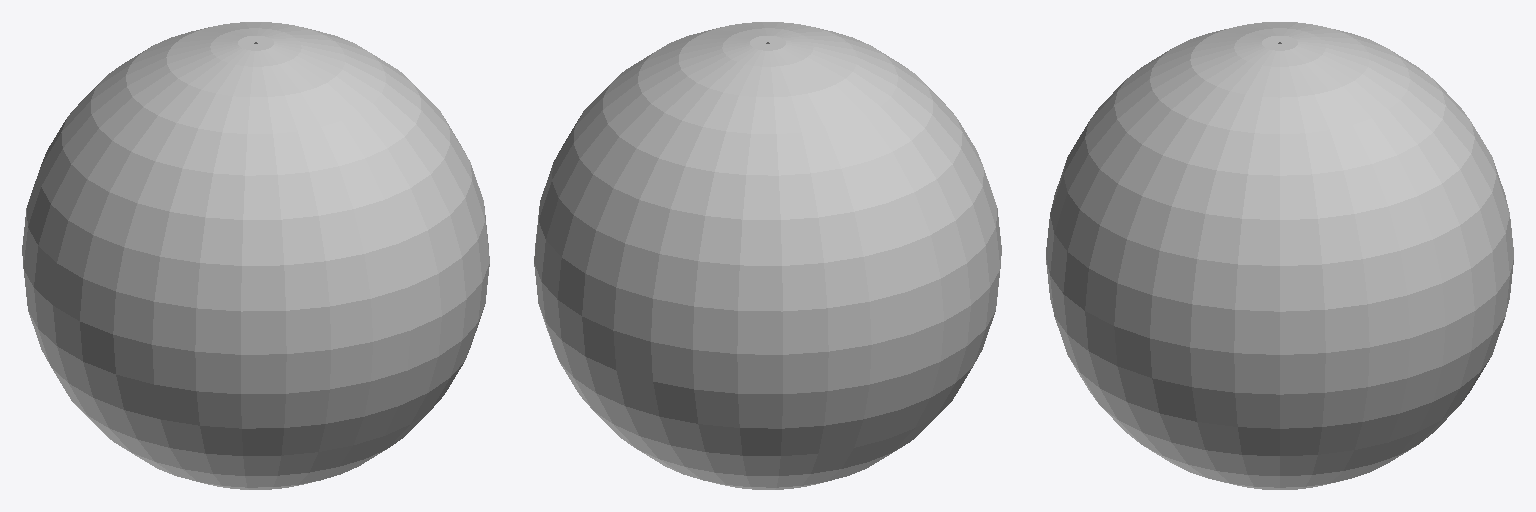
The model's file is DMPP-1-movie-88steps0066.obj.
The picture shows the model from 3 angles: view 1: azimuth 30°, elevation 25°; view 2: azimuth 150°, elevation 25°; view 3: azimuth 270°, elevation 25°; orthographic projection.
Visible parts, largest first — view 1: Sphere; view 2: Sphere; view 3: Sphere.
Boxes of the visible parts, <box> form: Sphere: <box>22,22,489,489</box>; Sphere: <box>534,22,1001,489</box>; Sphere: <box>1046,22,1513,489</box>.
Size of the model in its own units: 0.0091 by 0.0091 by 0.0091.